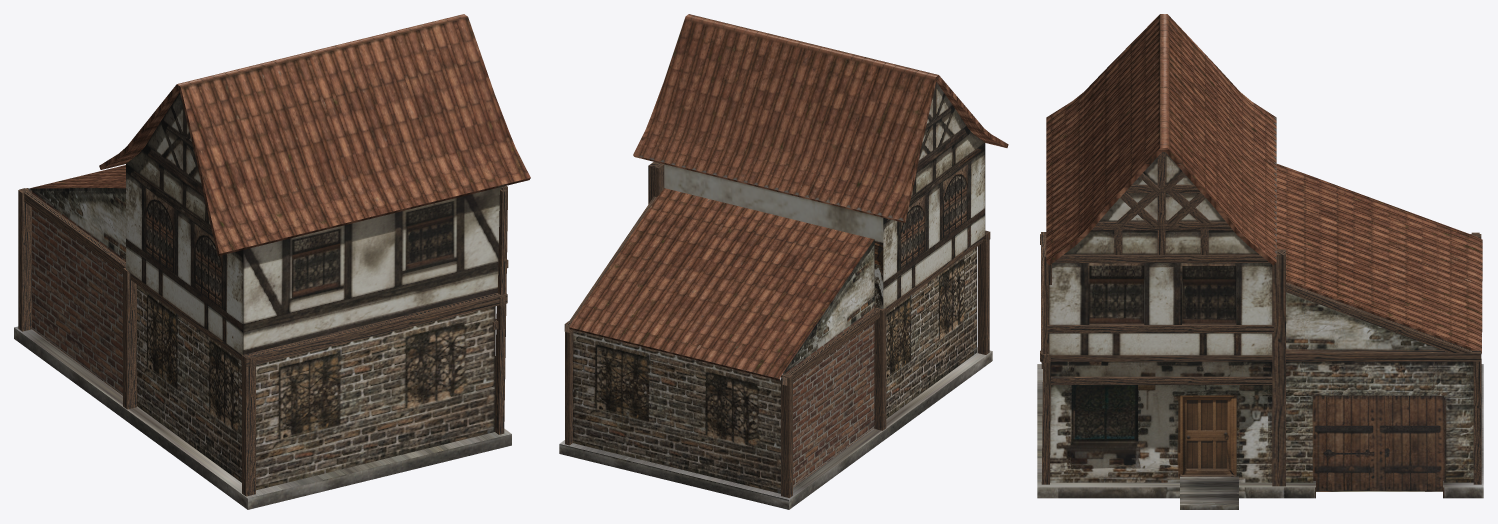
3 renders of one model, left to right at view 1: azimuth 30°, elevation 25°; view 2: azimuth 150°, elevation 25°; view 3: azimuth 270°, elevation 25°, orthographic. The views are drawn at different scales.
Visible parts, largest first — view 1: Cube.006; view 2: Cube.006; view 3: Cube.006.
Boxes of the visible parts, box(x1,y1,x2,y2) form: Cube.006: box(14, 14, 530, 509); Cube.006: box(559, 14, 1008, 509); Cube.006: box(1037, 14, 1483, 509).
Bounding box in the file's own units: 3747 × 4310 × 4849.
Materials: 3 (3 with a texture image).
